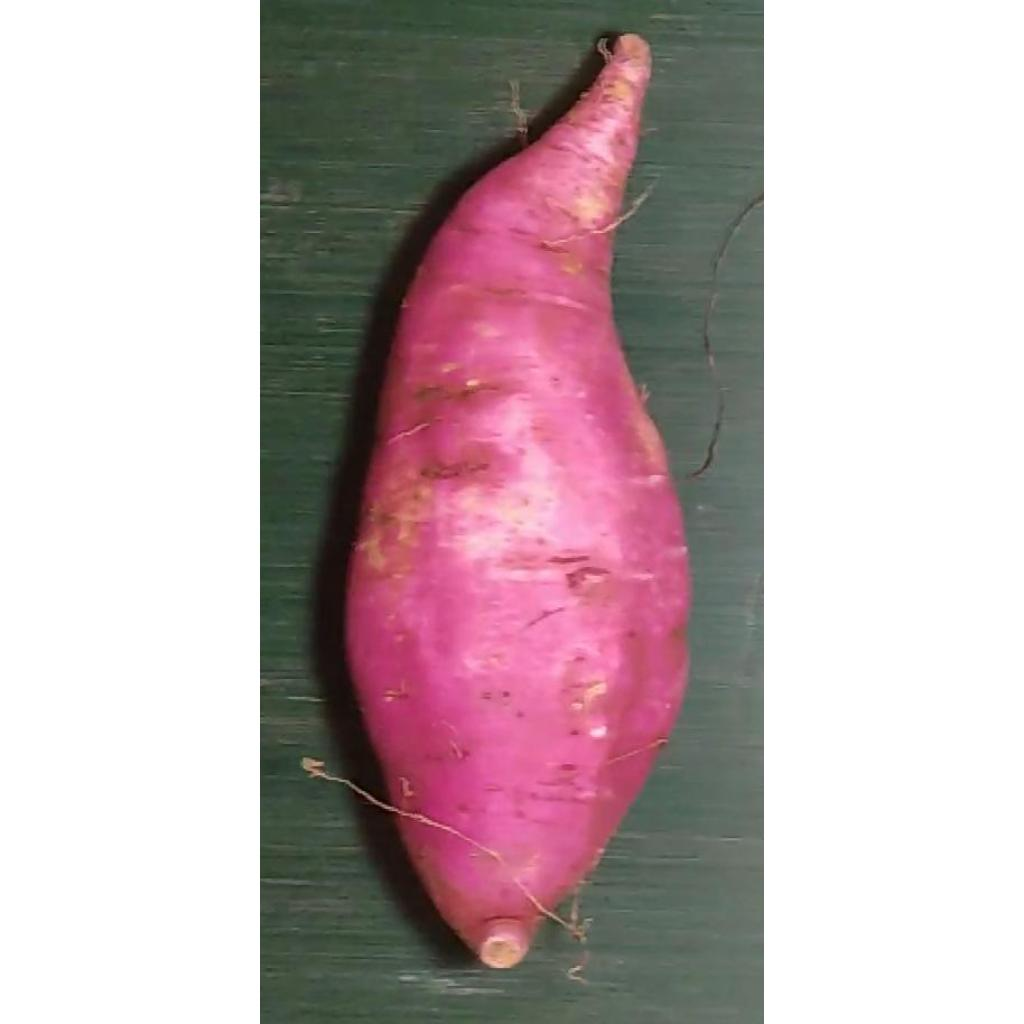Sweet Potato: (343, 32, 692, 972)
